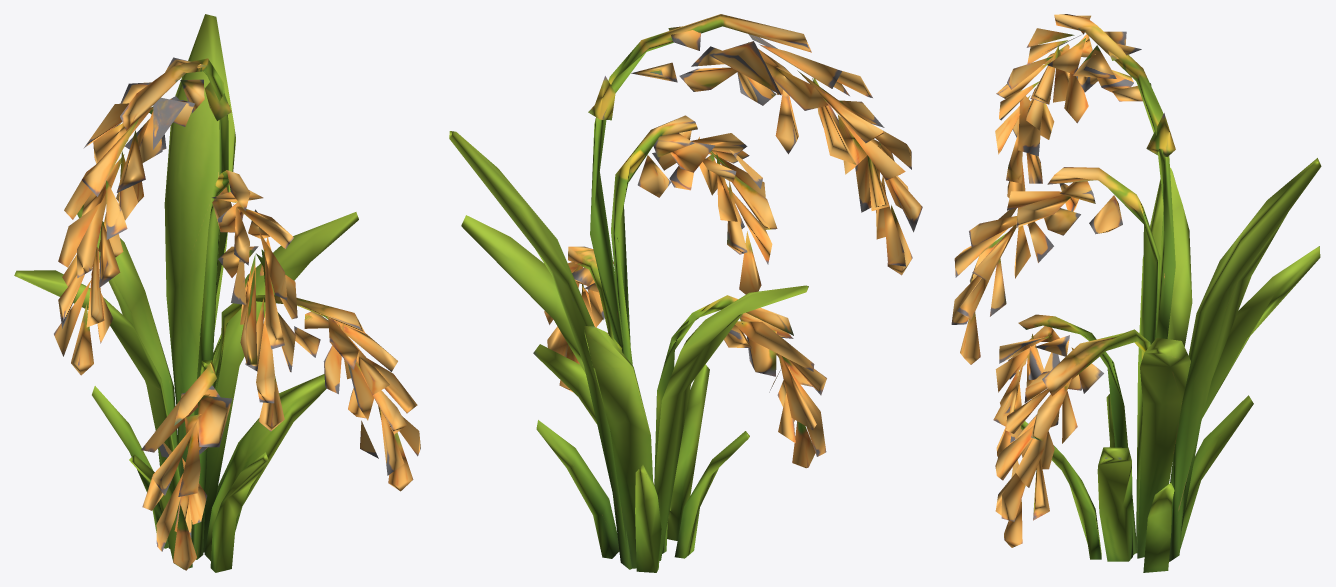
File: RicePlant.fbx
3 renders of one model, left to right at view 1: azimuth 30°, elevation 25°; view 2: azimuth 150°, elevation 25°; view 3: azimuth 270°, elevation 25°, orthographic. The views are drawn at different scales.
Visible parts, largest first — view 1: geometry_0; view 2: geometry_0; view 3: geometry_0.
Part boxes in pixels (left/top/right/bottom): geometry_0: left=14, top=14, right=420, bottom=572; geometry_0: left=449, top=14, right=922, bottom=572; geometry_0: left=951, top=14, right=1321, bottom=572.
Size of the model in its own units: 74.69 by 100 by 66.03.
1 material, 1 textured.
